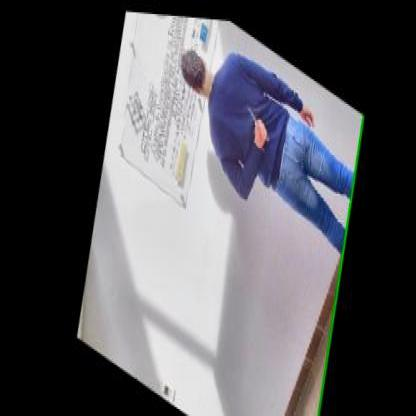knife: (238, 94, 272, 138)
